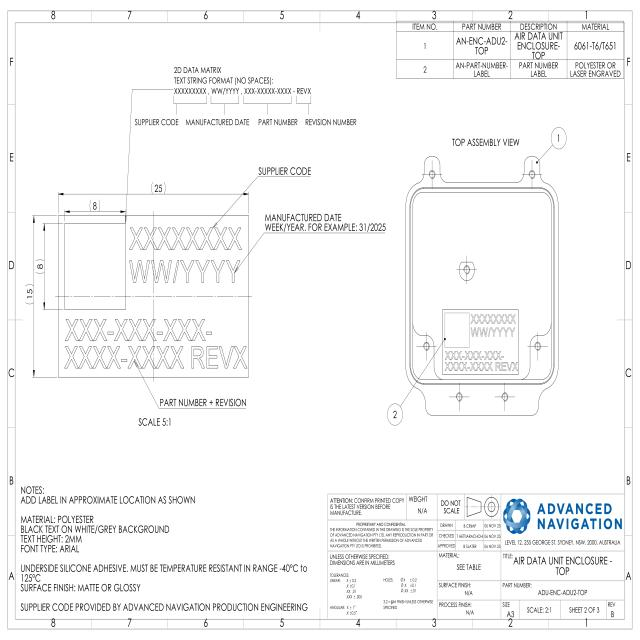dimension: (25, 282, 35, 306), (150, 181, 167, 195), (88, 199, 102, 212), (35, 258, 45, 275)
